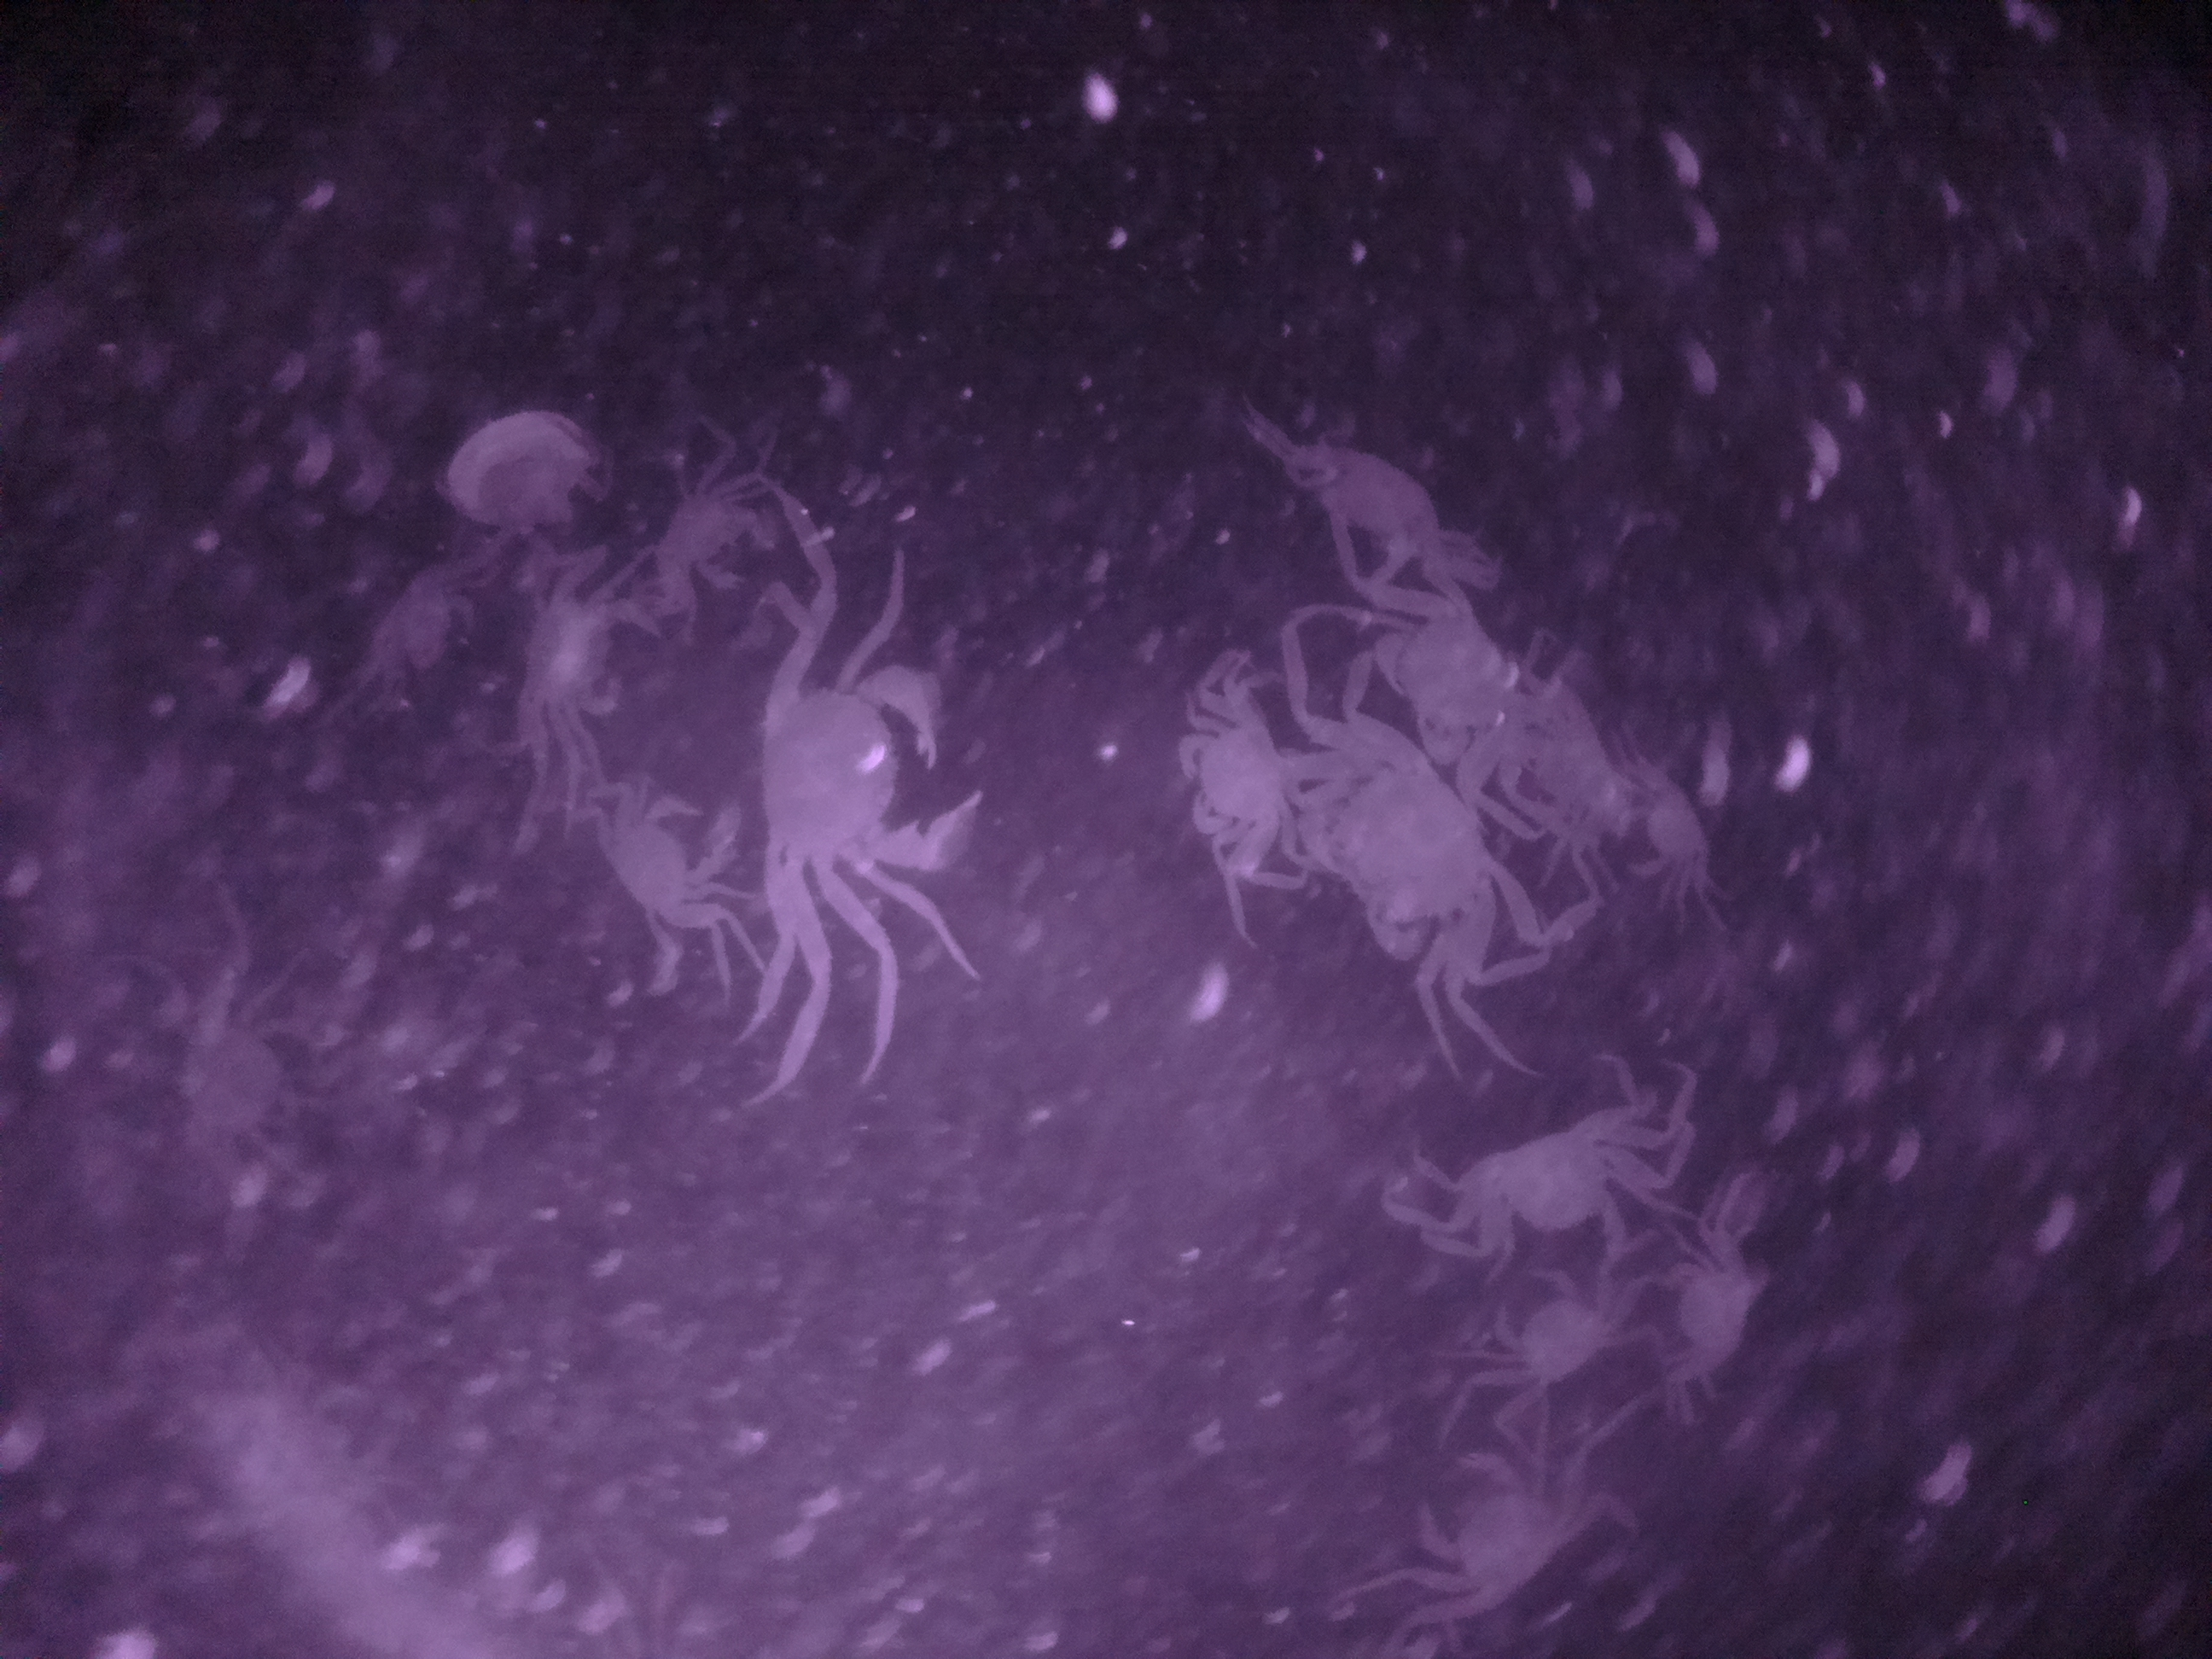Crab: (744, 631, 982, 927), (1284, 702, 1494, 997), (1451, 1093, 1677, 1263), (1399, 1436, 1581, 1626), (1440, 1270, 1620, 1431), (594, 784, 742, 957), (1160, 685, 1282, 877), (1622, 772, 1714, 896)
